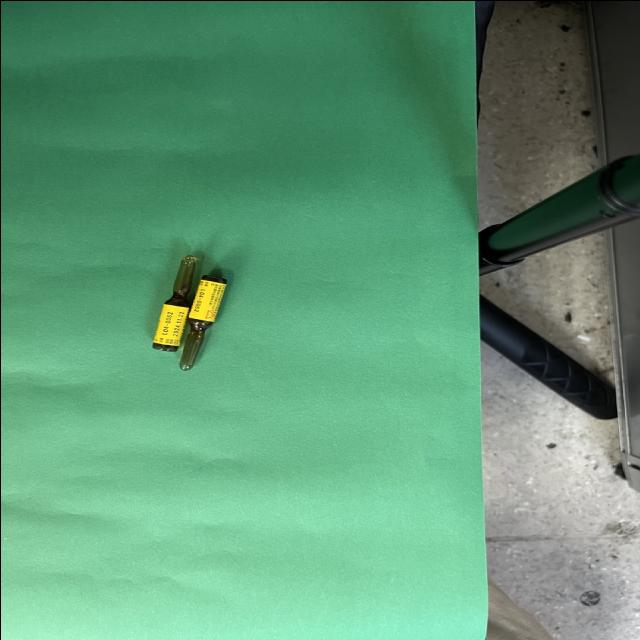Ampoules: (179, 274, 226, 370), (152, 254, 197, 350)
